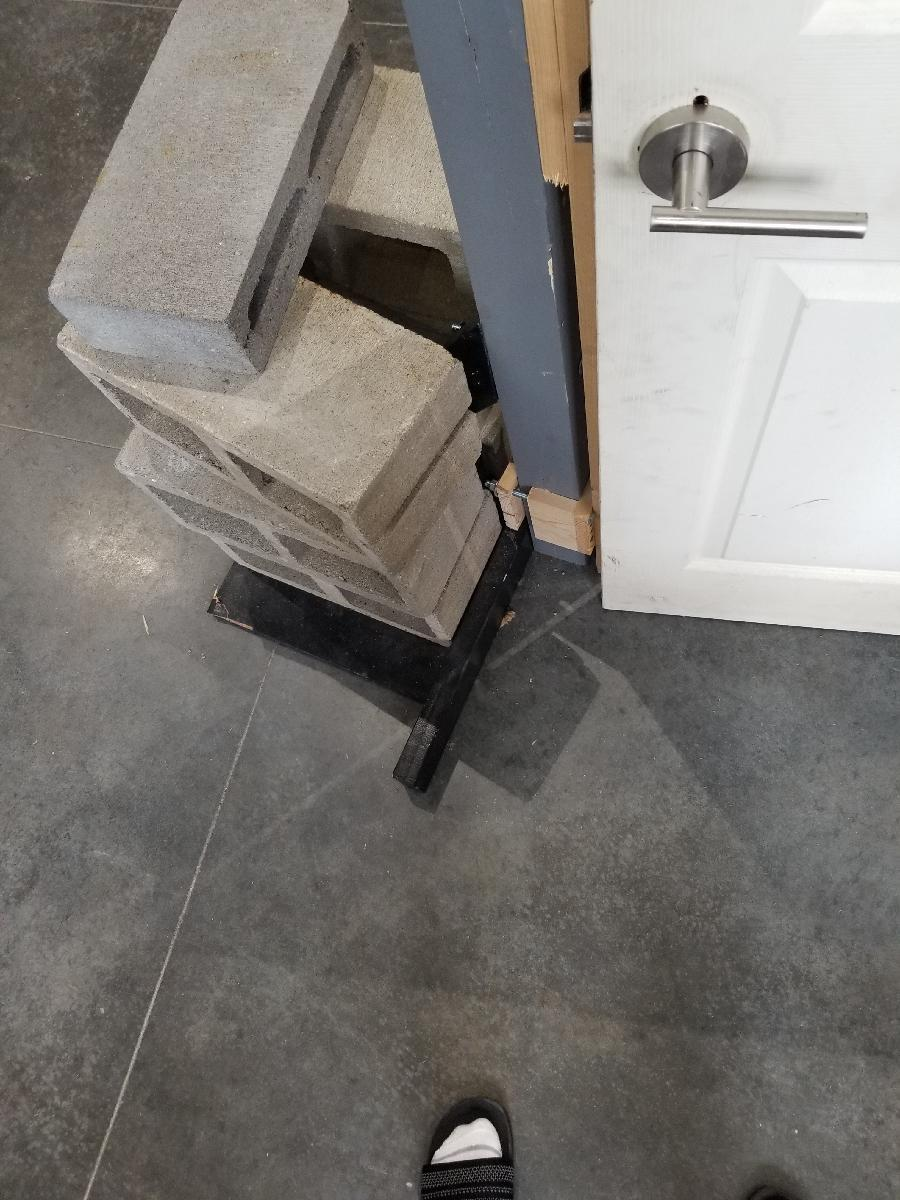door: (596, 8, 897, 635)
handle: (624, 98, 876, 252)
